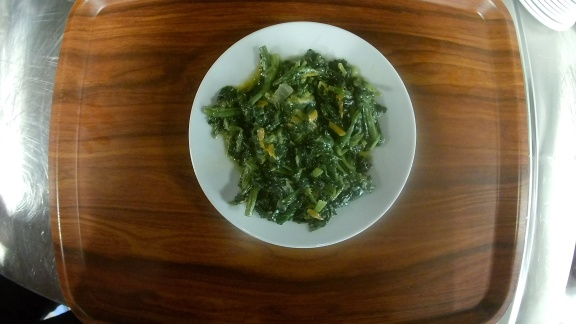ispanak: (187, 20, 420, 250)
